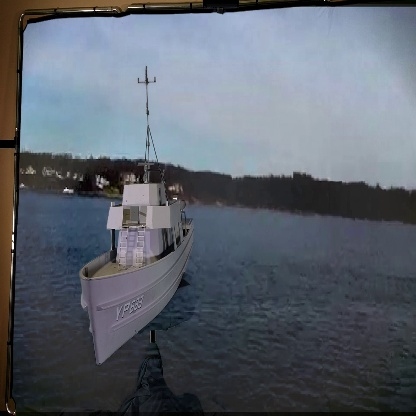YP689: (79, 66, 194, 366)
